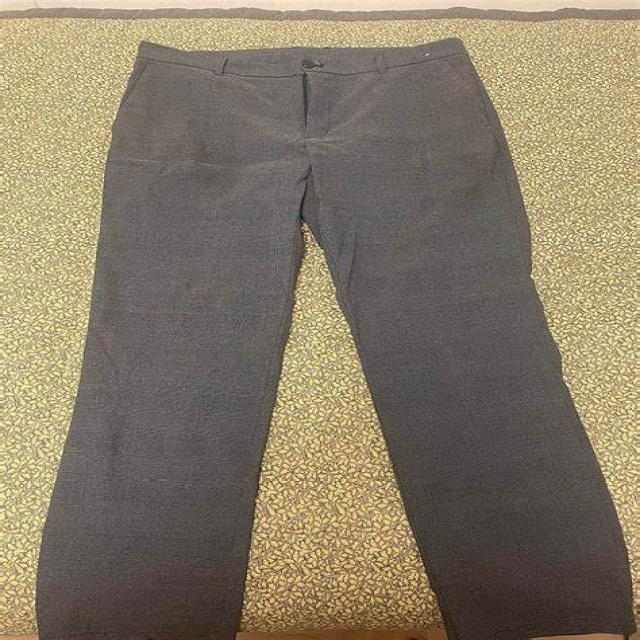long-pants: (35, 36, 639, 640)
